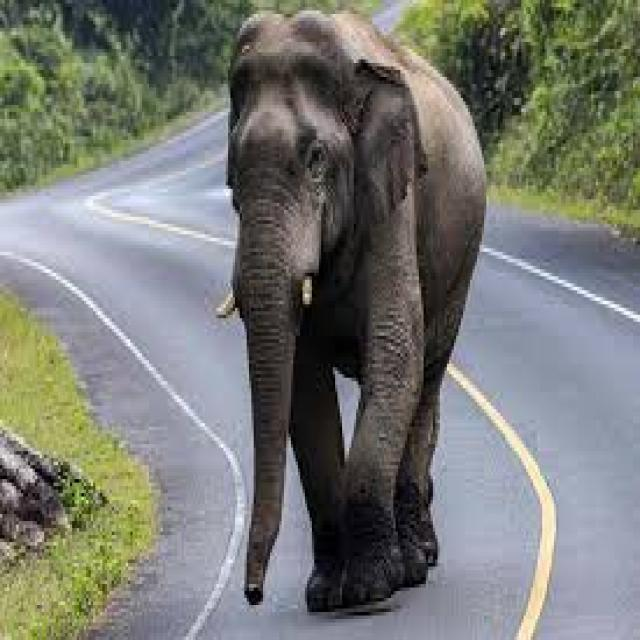Elephant: (213, 2, 497, 622)
